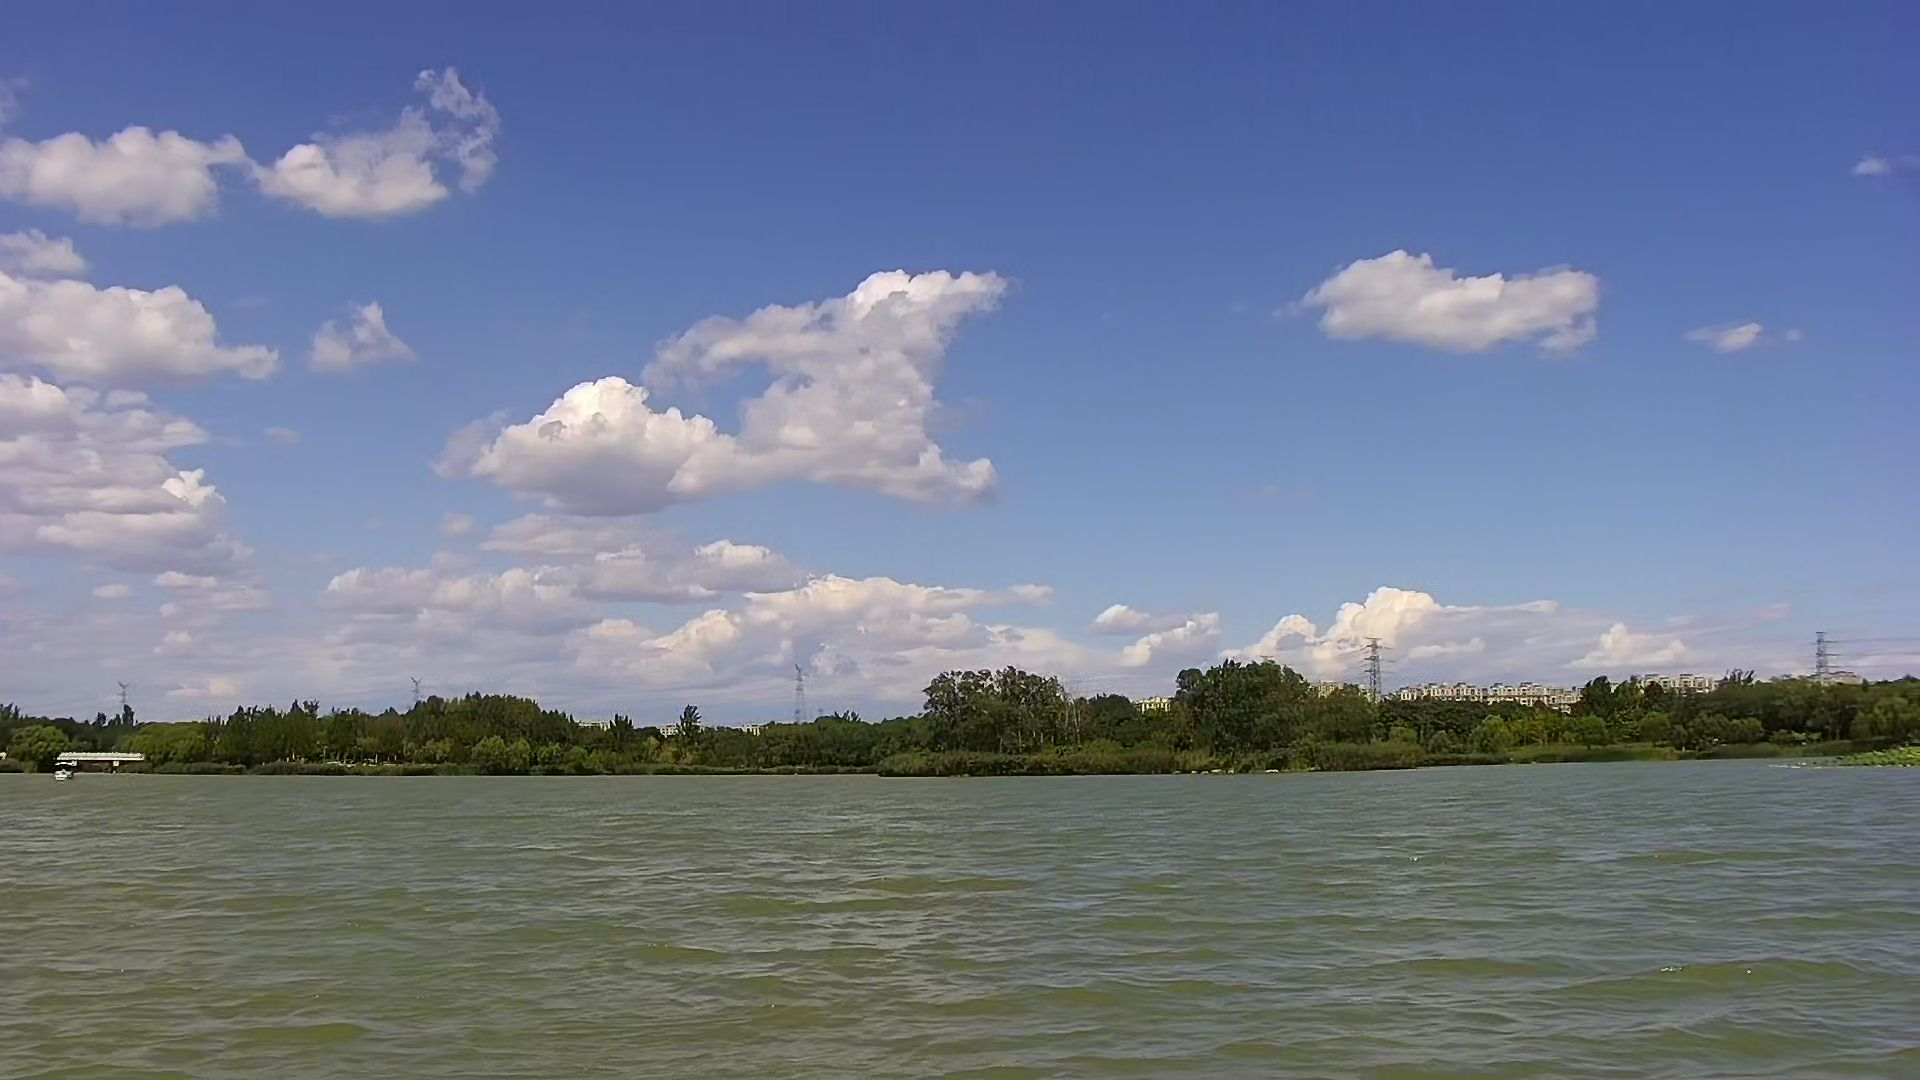bridge: (57, 740, 145, 775)
